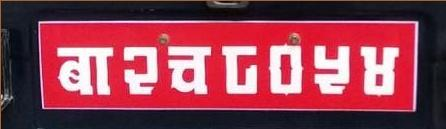0: (267, 43, 305, 99)
2: (119, 44, 163, 100)
4: (357, 41, 403, 99)
5: (308, 42, 353, 99)
8: (218, 44, 266, 99)
ba: (53, 45, 117, 97)
cha: (165, 44, 213, 100)
